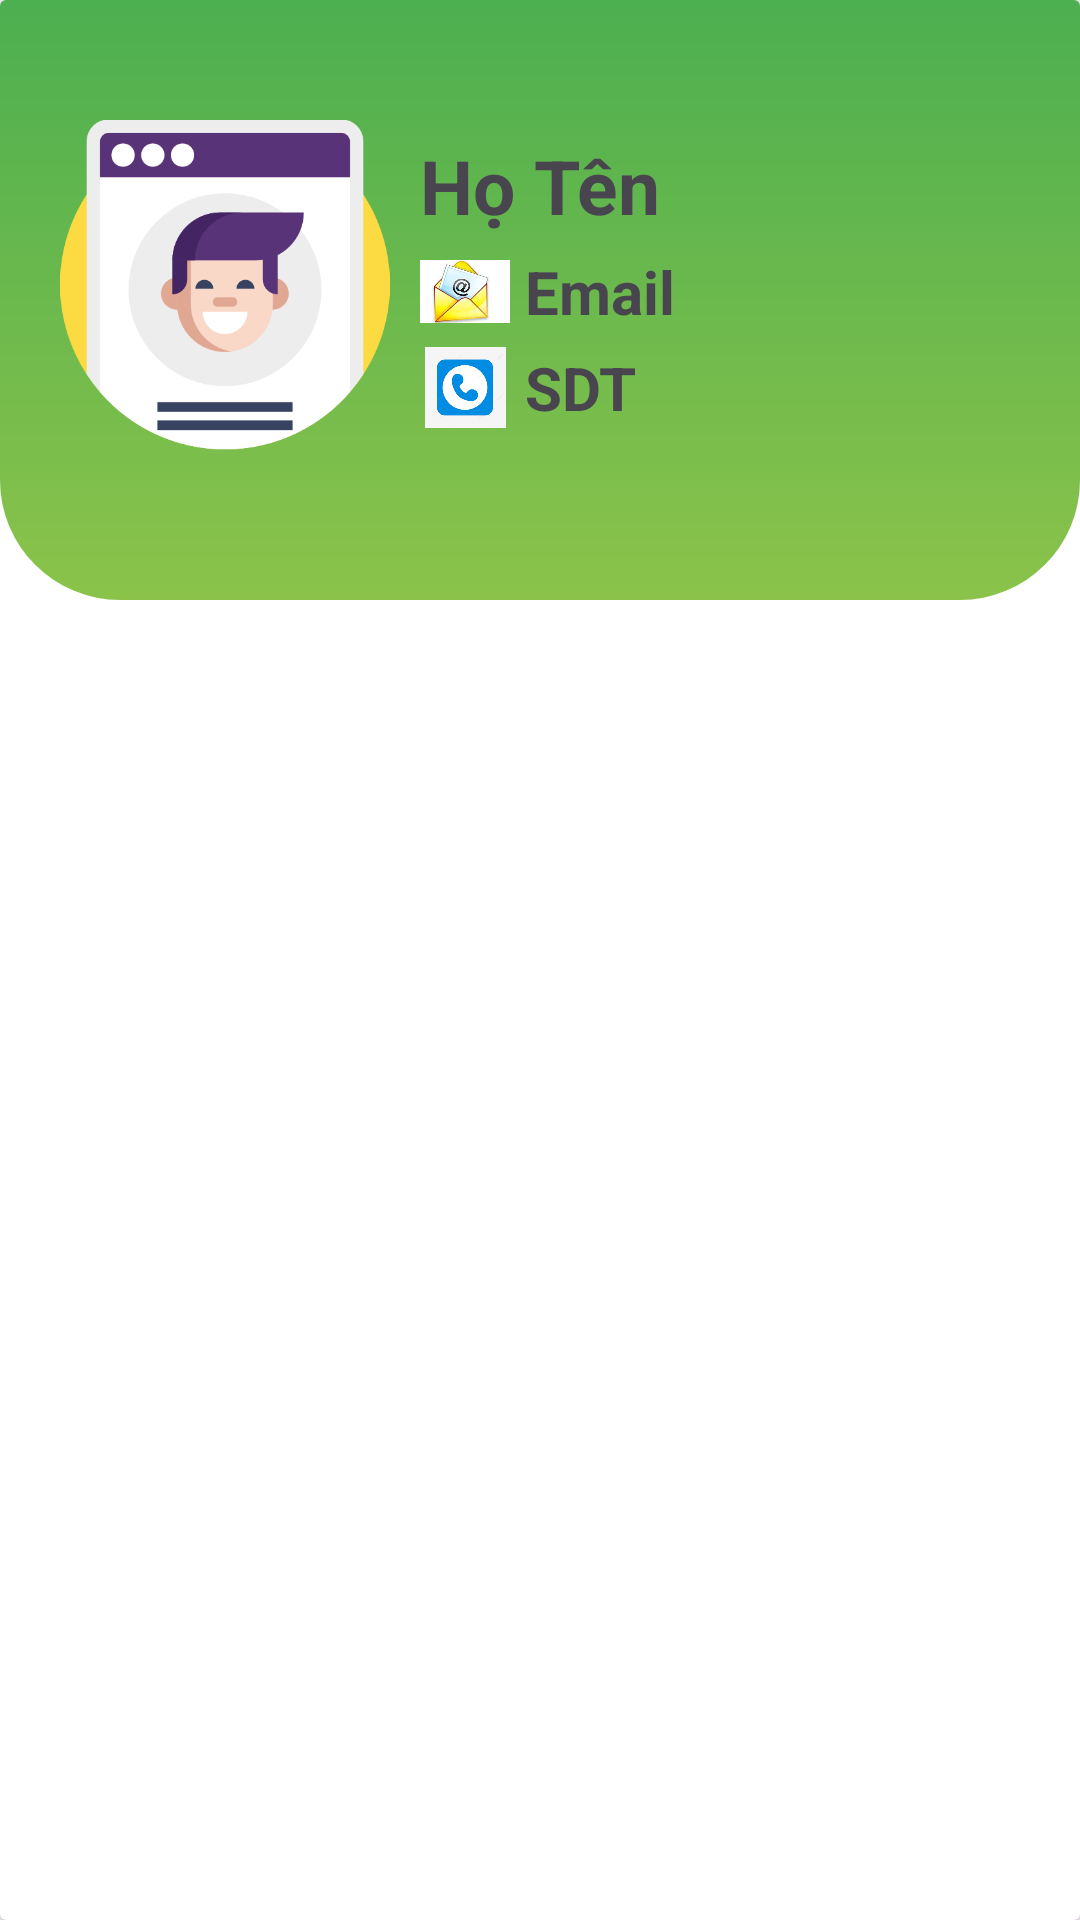

Icons on this 1080px×1920px Android screen, each with the point to tap as (x,y):
imgtrangcanhan: (225,285)
phone: (465,387)
